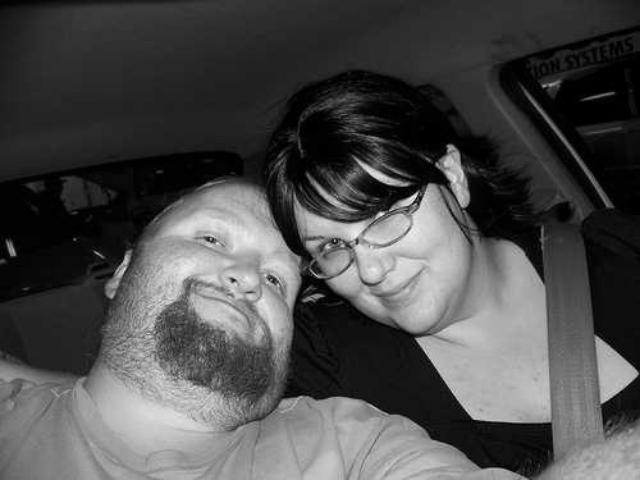SafeDriving: (248, 252, 292, 299)
Seatbelt: (536, 213, 608, 469)
